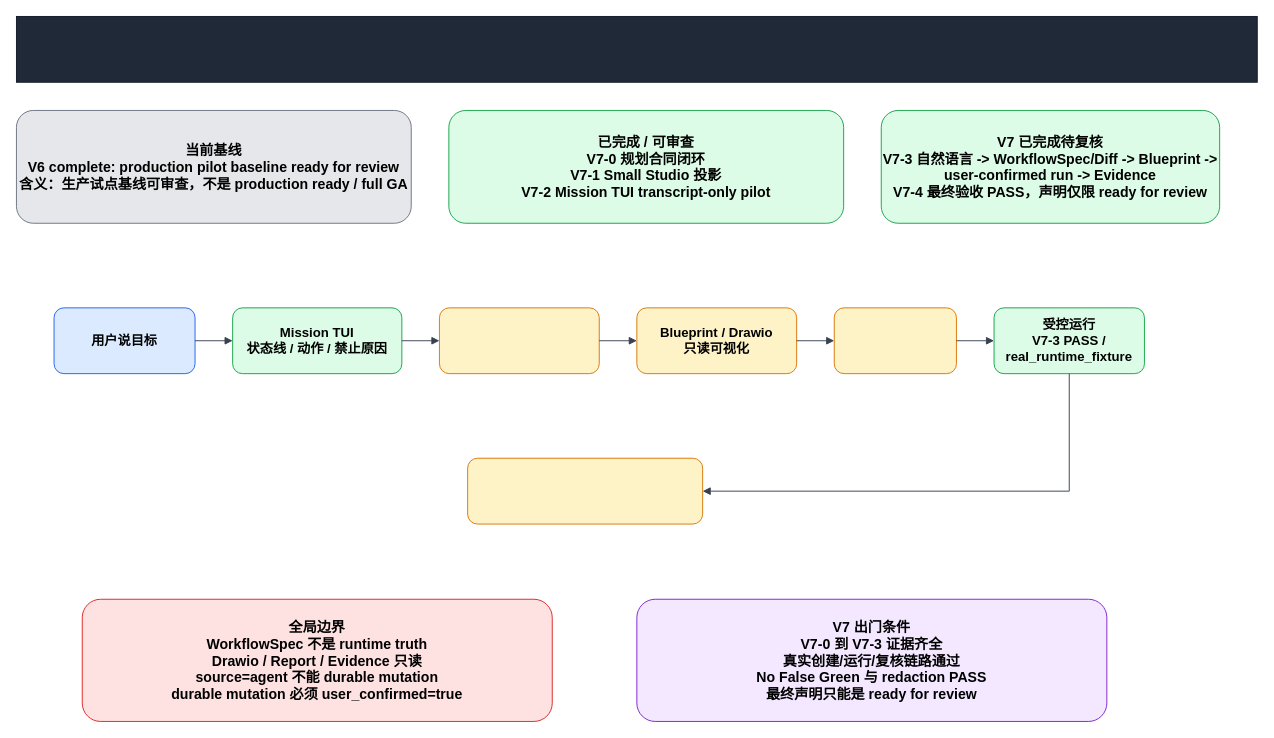
Image size: 1274x738. Some labels were removed from this diagram. Here are the shapes that lost their labels. From the top down, the centre of each, then its label:
At point 636,49: "HarnessOS V7：小型工作室生产试点 + 可解释 Mission TUI".
At point 519,340: "WorkflowSpec / Diff".
At point 894,340: "用户确认".
At point 585,490: "Report / Quality / Evidence".
